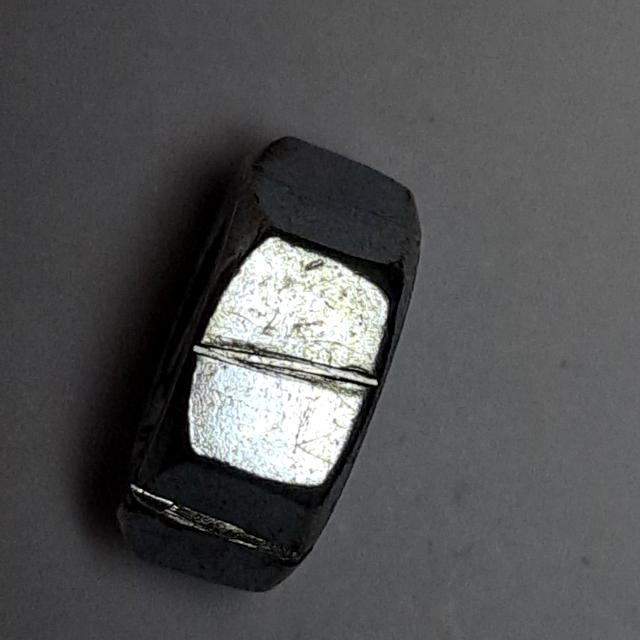Side_Scratches: (97, 119, 432, 609)
